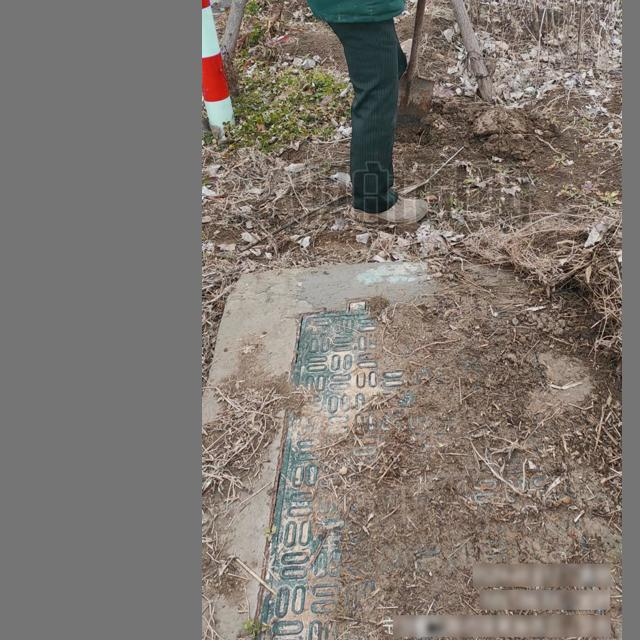good: (245, 297, 613, 640)
